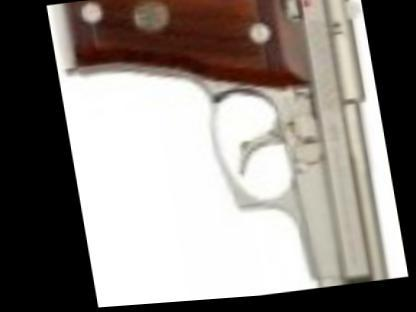pistol: (65, 0, 403, 307)
